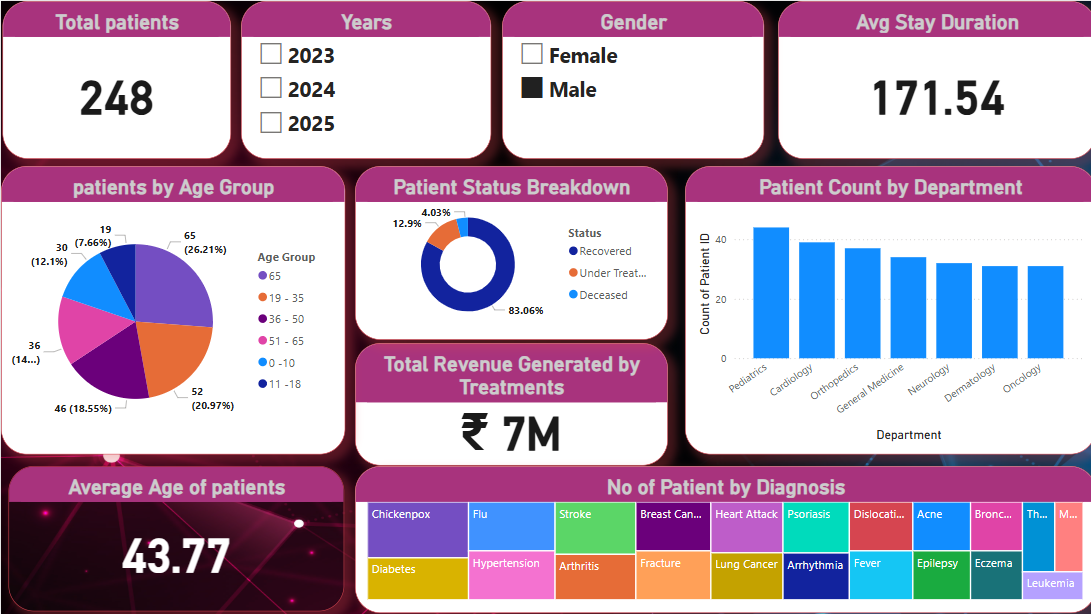

The page's visual inventory and layout, read from the dashboard file:
{"tool":"powerbi","page":{"name":"Dashboard","canvas":[1280,720],"ordinal":4},"visuals":[{"type":"card","title":"Avg Stay Duration","fields":{"Values":["Avg(Simulated_Hospital_Data.Length of Stay (Days))"]},"box":[908.2,0,372.2,184.5],"z":0},{"type":"card","title":"Total patients","fields":{"Values":["Count(Simulated_Hospital_Data.Patient ID)"]},"box":[1.6,0,267.2,184.5],"z":1000},{"type":"card","title":"Total Revenue Generated by Treatments","fields":{"Values":["Sum(Simulated_Hospital_Data.Treatment Cost (INR))"]},"box":[413.6,400.8,365.8,143.2],"z":2000},{"type":"slicer","title":"Years","fields":{"Values":["Simulated_Hospital_Data.Year"]},"box":[279.9,0,292.7,184.5],"z":3000},{"type":"slicer","title":"Gender","fields":{"Values":["Simulated_Hospital_Data.Gender"]},"box":[585.3,0,307,184.5],"z":4000},{"type":"pieChart","title":"patients by Age Group","fields":{"Category":["Simulated_Hospital_Data.Age Group"],"Y":["CountNonNull(Simulated_Hospital_Data.Age Group)"]},"box":[0,192.5,402.4,337.2],"z":5000},{"type":"donutChart","title":"Patient Status Breakdown","fields":{"Category":["Simulated_Hospital_Data.Status"],"Y":["CountNonNull(Simulated_Hospital_Data.Status)"]},"box":[413.6,192.5,365.8,203.6],"z":6000},{"type":"clusteredColumnChart","title":"Patient Count by Department","fields":{"Category":["Simulated_Hospital_Data.Department"],"Y":["CountNonNull(Simulated_Hospital_Data.Patient ID)"]},"box":[800.1,192.5,480.4,337.2],"z":7000},{"type":"card","title":"Average Age of patients","fields":{"Values":["Avg(Simulated_Hospital_Data.Age)"]},"box":[9.5,544,392.9,170.2],"z":8000},{"type":"treemap","title":"No of Patient by Diagnosis","fields":{"Group":["Simulated_Hospital_Data.Diagnosis"],"Values":["CountNonNull(Simulated_Hospital_Data.Patient ID)"]},"box":[413.6,544,866.9,171.8],"z":9000}]}

Visuals, with their boxes in screenshot pixels (x1, y1, x2, y2), scaled from the page's 1280x720 canvas onto the 1091x614 screenshot:
"Avg Stay Duration" card: bbox(774, 0, 1090, 157)
"Total patients" card: bbox(1, 0, 229, 157)
"Total Revenue Generated by Treatments" card: bbox(353, 342, 664, 464)
"Years" slicer: bbox(239, 0, 488, 157)
"Gender" slicer: bbox(499, 0, 761, 157)
"patients by Age Group" pieChart: bbox(0, 164, 343, 452)
"Patient Status Breakdown" donutChart: bbox(353, 164, 664, 338)
"Patient Count by Department" clusteredColumnChart: bbox(682, 164, 1090, 452)
"Average Age of patients" card: bbox(8, 464, 343, 609)
"No of Patient by Diagnosis" treemap: bbox(353, 464, 1090, 610)
